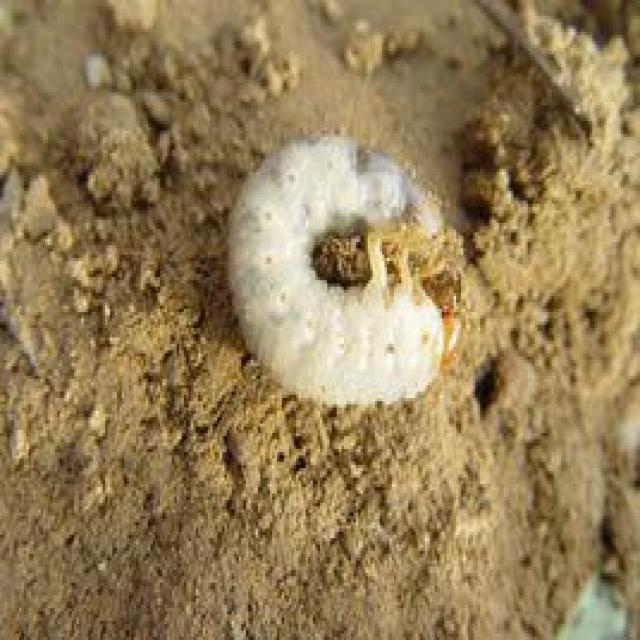Grub-Adult-: (220, 131, 472, 427)
